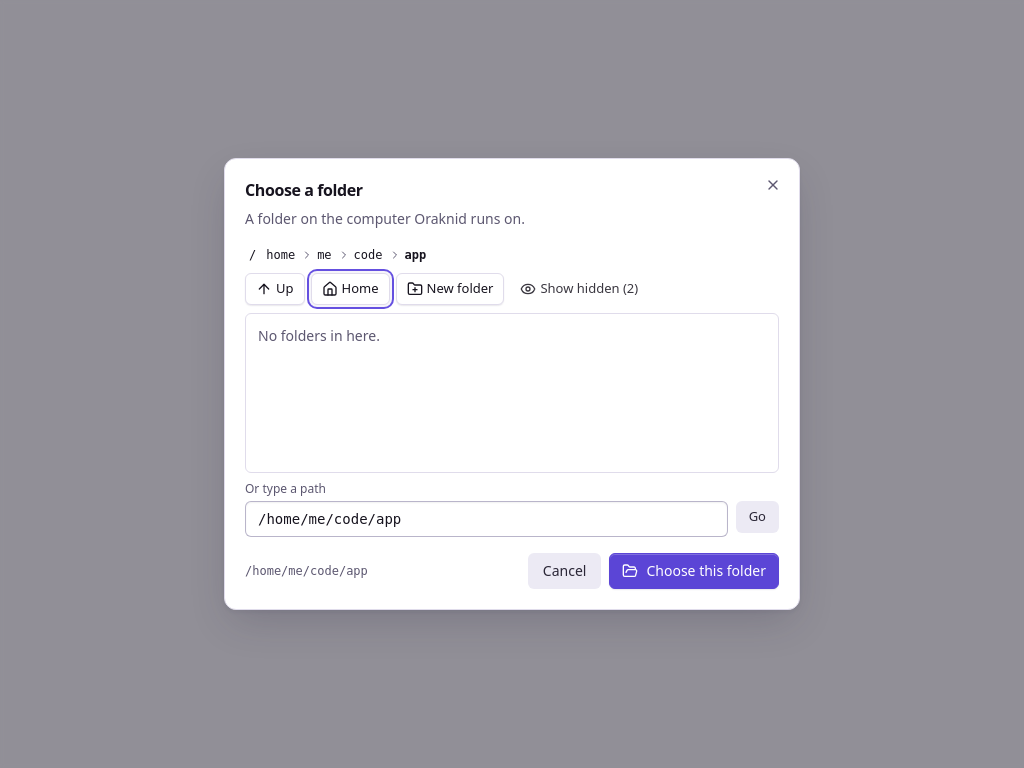
Test: the folder picker › goes up and home
The image size is (1024, 768).
Expected: the text "No folders in here." is shown, [258, 326, 380, 345]
Click the button "Up": click(275, 289) [245, 273, 304, 305]
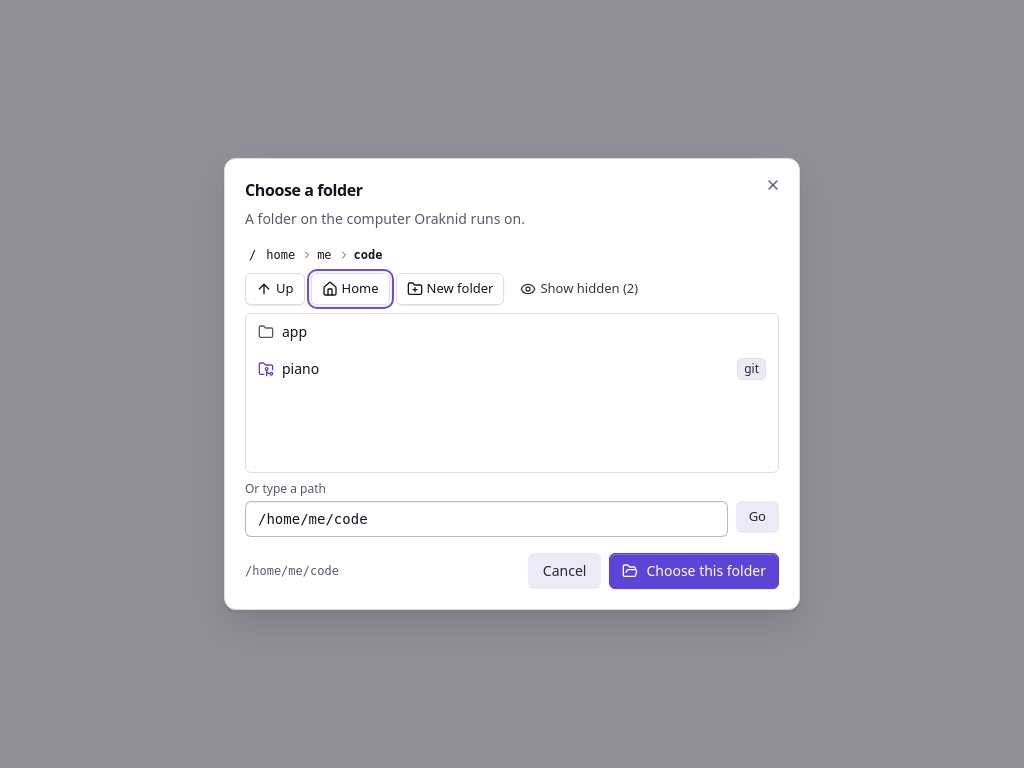
Expected: the button "piano git" is shown, [246, 350, 778, 388]
Click the button "Home": click(350, 289) [310, 273, 390, 305]
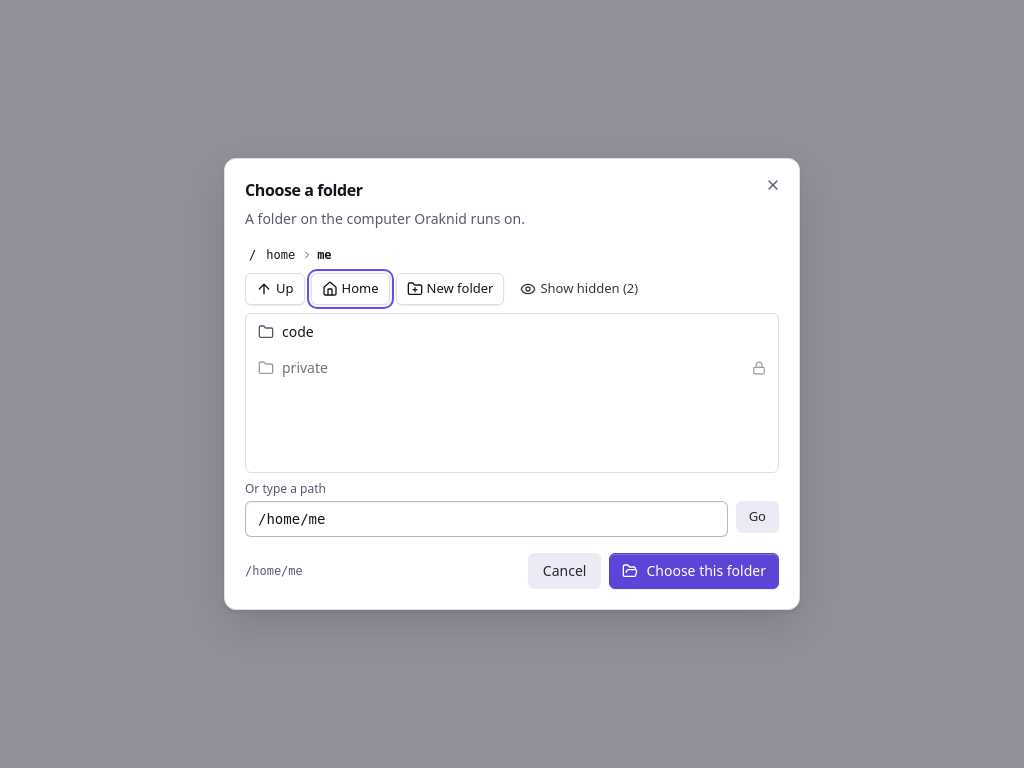
Expected: the button "private" is shown, [246, 350, 778, 386]
